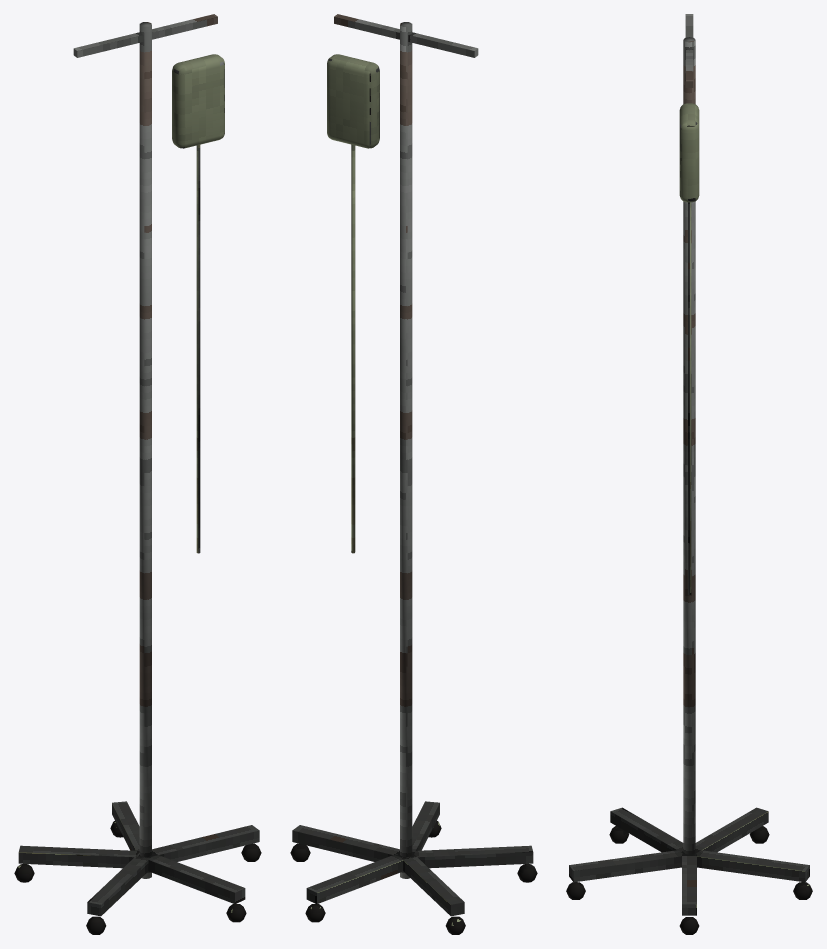
3 views of the same model, side by side, from view 1: azimuth 30°, elevation 25°; view 2: azimuth 150°, elevation 25°; view 3: azimuth 270°, elevation 25° (orthographic). The views are drawn at different scales.
Parts seen in each view (by area): view 1: iv; view 2: iv; view 3: iv.
Boxes of the visible parts, box(x1,y1,x2,y2) form: iv: box(14, 14, 261, 934); iv: box(290, 14, 537, 934); iv: box(566, 14, 812, 934).
Bounding box in the file's own units: 0.4688 × 1.88 × 0.4965.
1 material, 1 textured.
